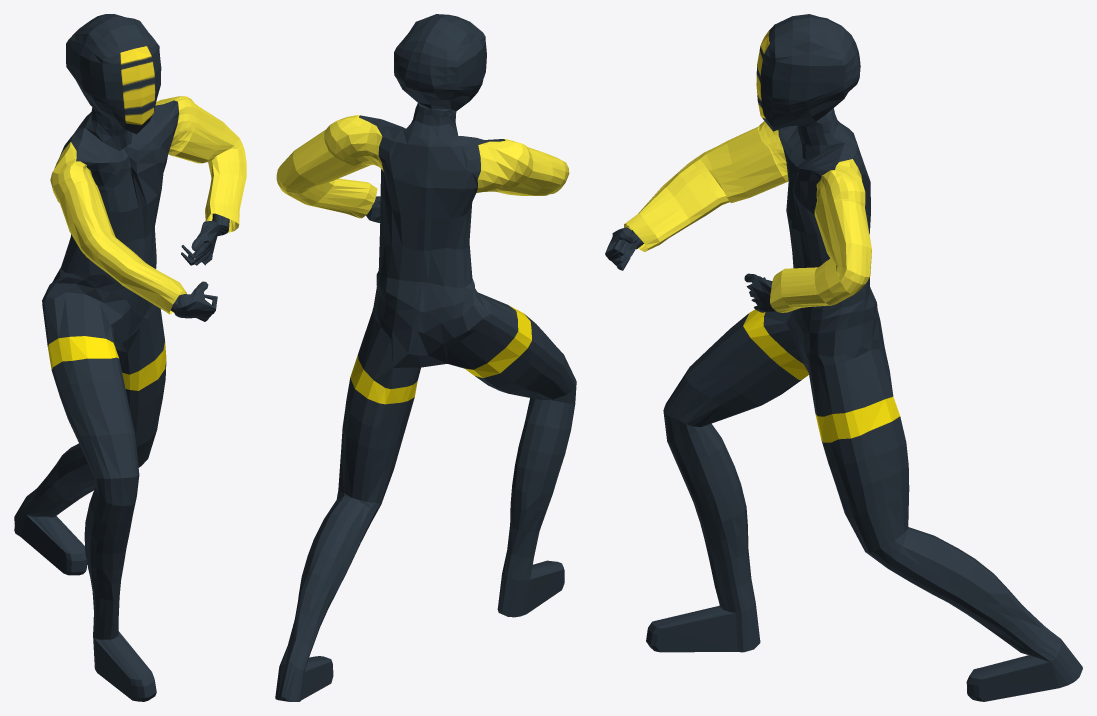
Rendered from Sentry_Hit_Stun_Recover_000005.obj.
The picture shows the model from 3 angles, left to right: view 1: azimuth 30°, elevation 25°; view 2: azimuth 150°, elevation 25°; view 3: azimuth 270°, elevation 25°; orthographic projection. The views are drawn at different scales.
Visible parts, largest first — view 1: Cube; view 2: Cube; view 3: Cube.
Part boxes in pixels (x1=…): Cube: x1=14, y1=14, x2=246, y2=701; Cube: x1=275, y1=14, x2=576, y2=701; Cube: x1=605, y1=14, x2=1082, y2=701.
Size of the model in its own units: 1.34 by 3.55 by 2.34.
